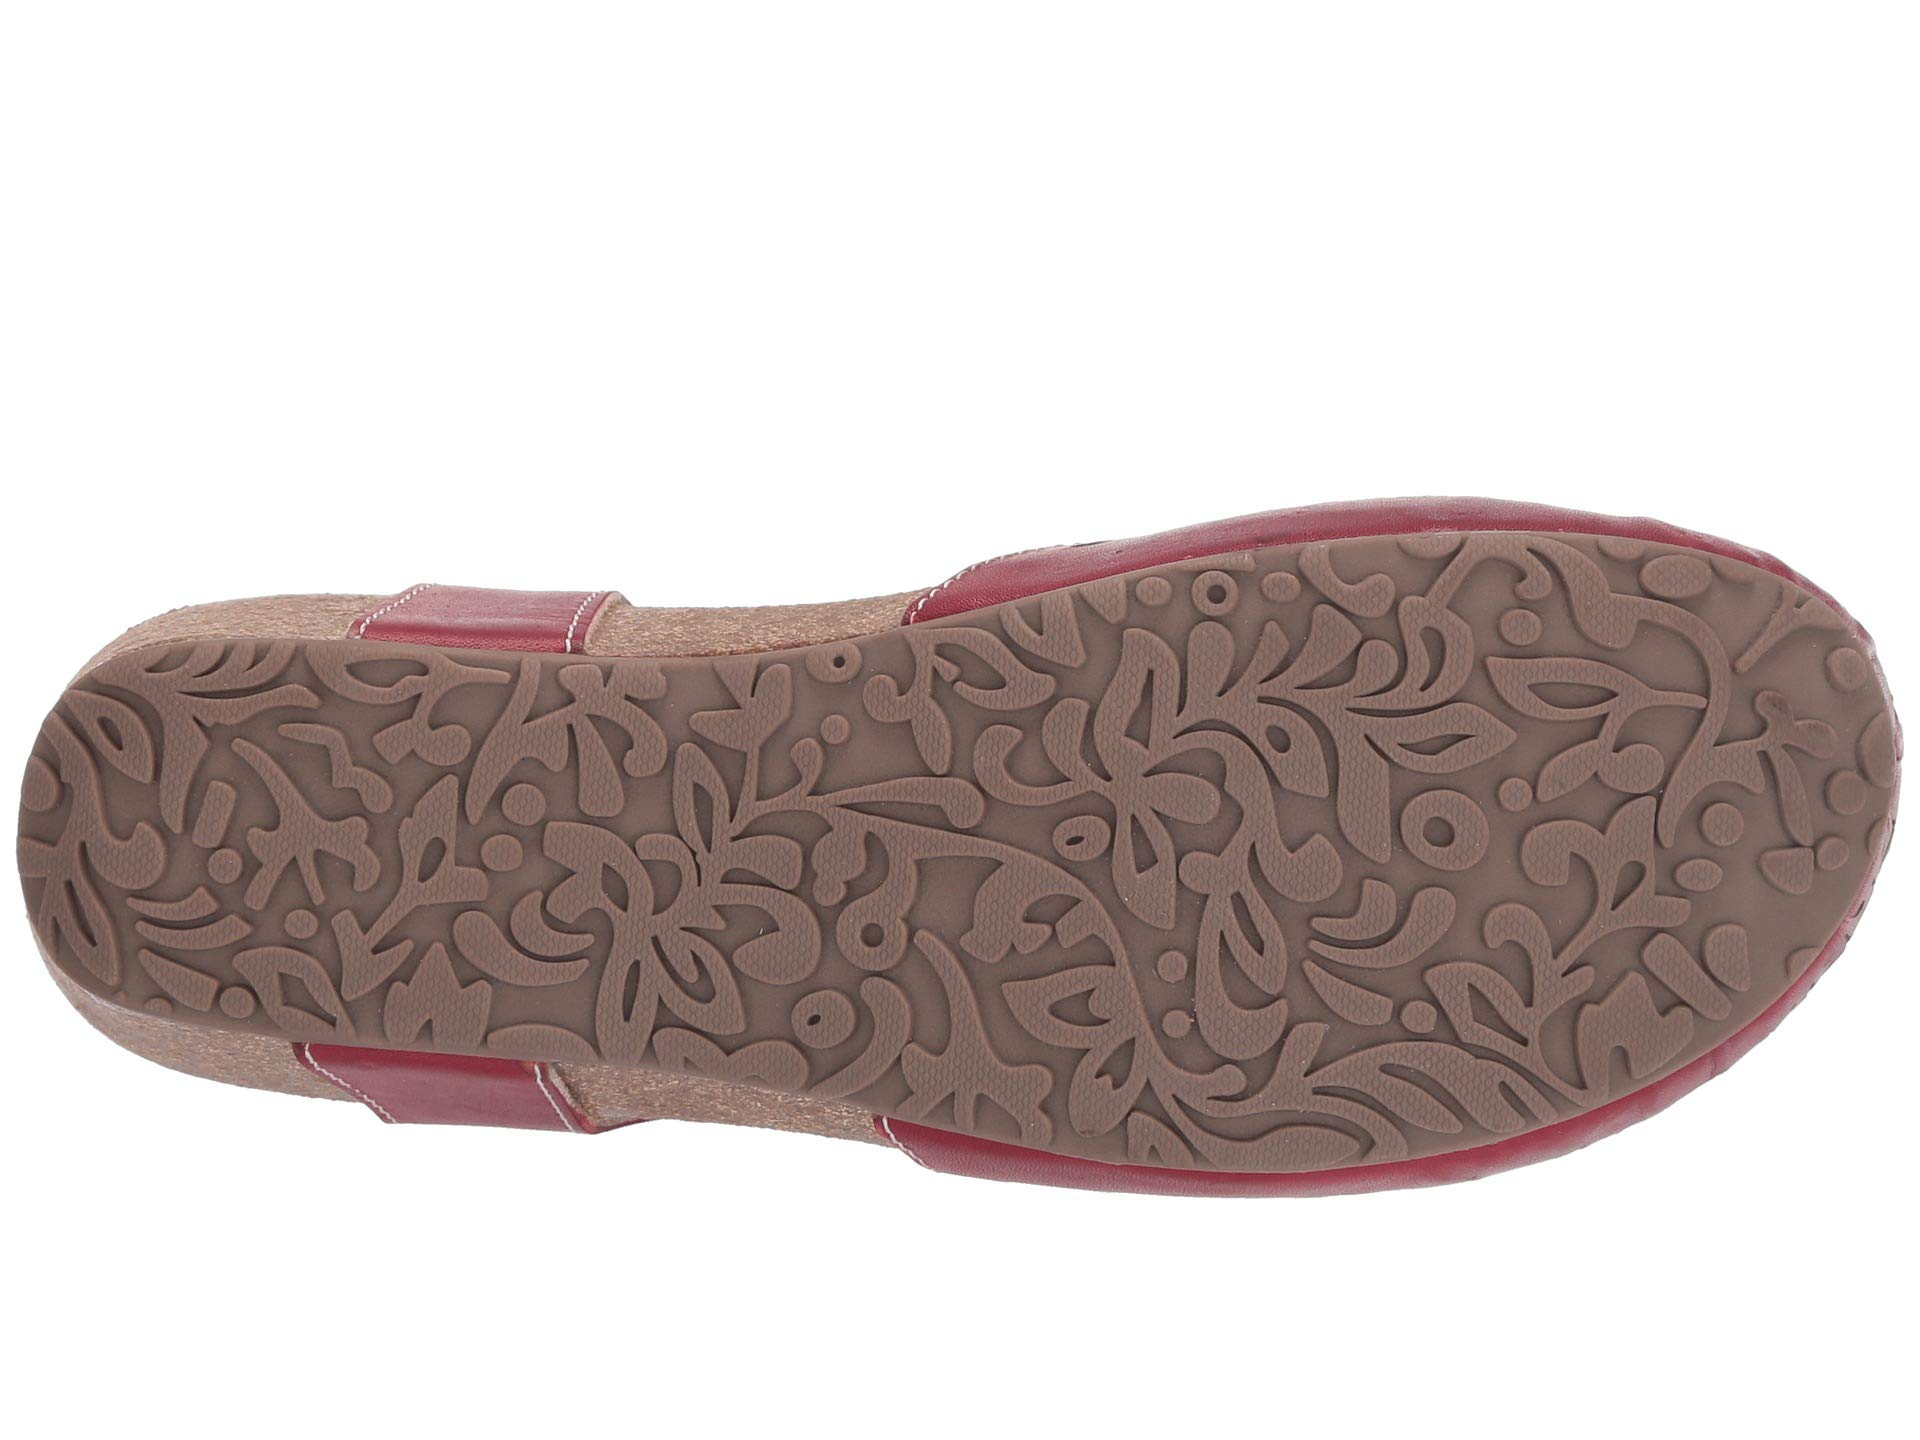circle: (1370, 729, 1578, 939), (1671, 773, 1846, 967), (1152, 566, 1312, 703), (1079, 924, 1215, 1057), (151, 777, 299, 898), (440, 781, 573, 905), (815, 870, 940, 988), (776, 644, 890, 764)
quad: (151, 777, 299, 898)
